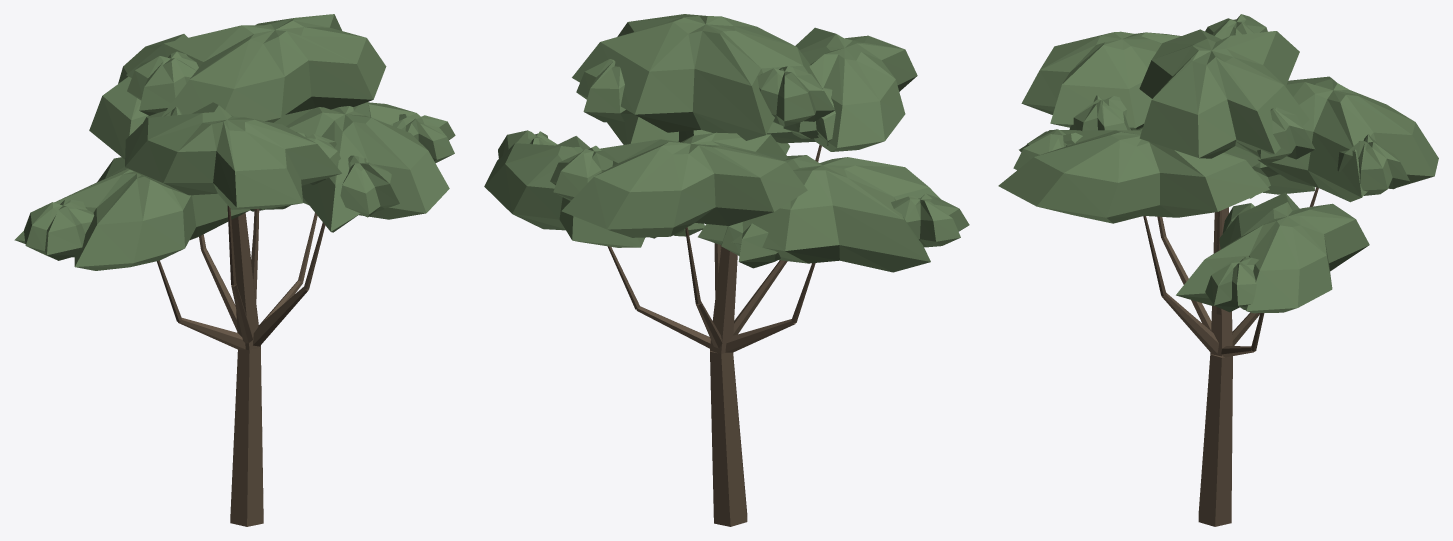
File: field-tree-spreading-high.glb
3 renders of one model, left to right at view 1: azimuth 30°, elevation 25°; view 2: azimuth 150°, elevation 25°; view 3: azimuth 270°, elevation 25°, orthographic.
Parts seen in each view (by area): view 1: field-tree-spreading-high / crown, field-tree-spreading-high / trunk; view 2: field-tree-spreading-high / crown, field-tree-spreading-high / trunk; view 3: field-tree-spreading-high / crown, field-tree-spreading-high / trunk.
Boxes of the visible parts, box(x1,y1,x2,y2) form: field-tree-spreading-high / crown: box(14, 14, 455, 270); field-tree-spreading-high / trunk: box(157, 205, 325, 526); field-tree-spreading-high / crown: box(484, 14, 969, 272); field-tree-spreading-high / trunk: box(607, 144, 821, 526); field-tree-spreading-high / crown: box(998, 14, 1438, 313); field-tree-spreading-high / trunk: box(1143, 187, 1318, 526).
Size of the model in its own units: 7.51 by 7.88 by 6.49.
